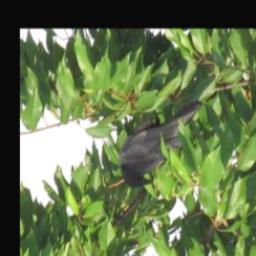Crow: (118, 101, 204, 189)
